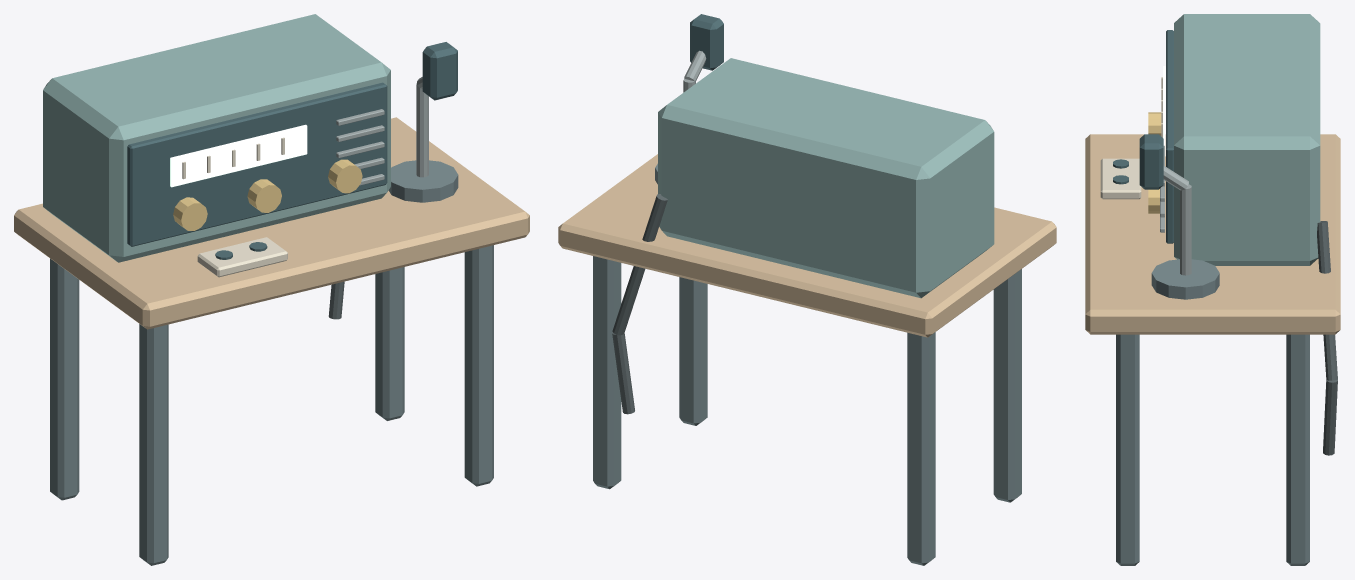
File: radio_desk.glb
3 views of the same model, side by side, from view 1: azimuth 30°, elevation 25°; view 2: azimuth 150°, elevation 25°; view 3: azimuth 270°, elevation 25° (orthographic). The views are drawn at different scales.
Parts seen in each view (by area): view 1: radio_desk; view 2: radio_desk; view 3: radio_desk.
Boxes of the visible parts, x1=… form: radio_desk: x1=14, y1=14, x2=529, y2=565; radio_desk: x1=558, y1=14, x2=1056, y2=565; radio_desk: x1=1085, y1=14, x2=1340, y2=565.
Bounding box in the file's own units: 1.25 × 1.34 × 0.75.
